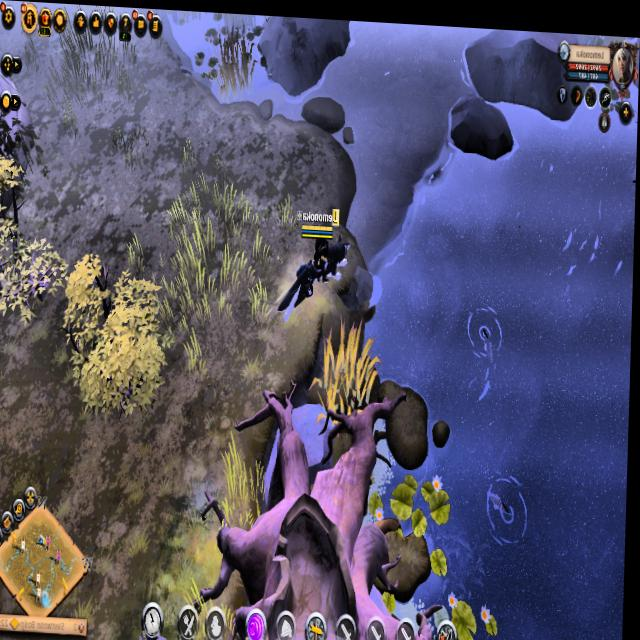fish: (486, 460, 535, 545), (463, 295, 506, 360)
